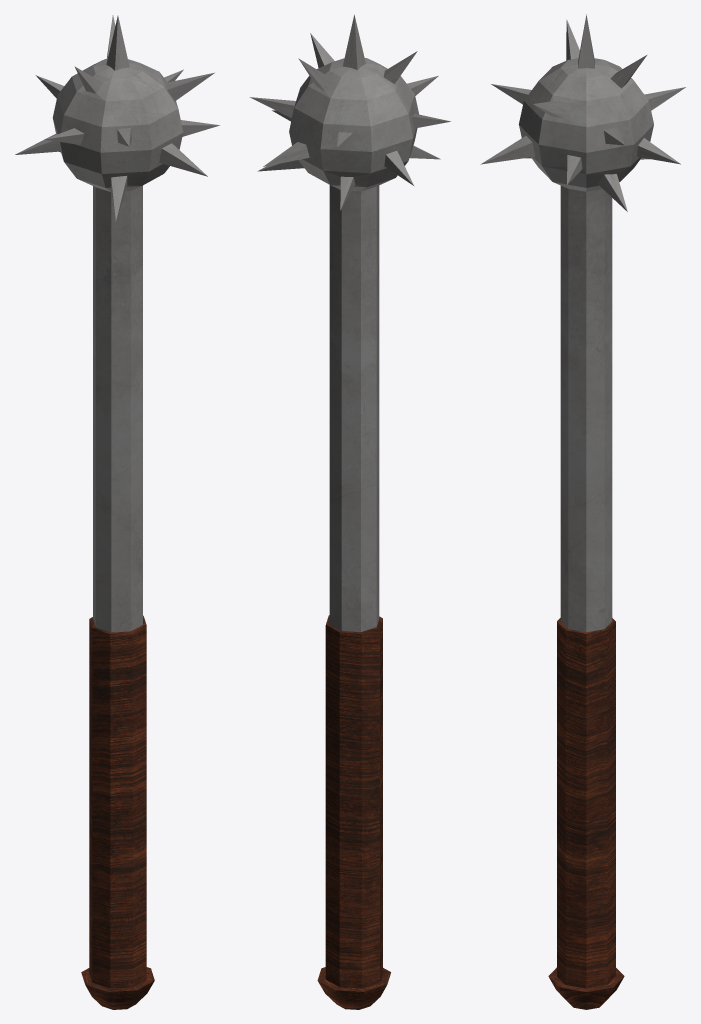
Rendered from SpikedBallV1.1.fbx.
3 renders of one model, left to right at view 1: azimuth 30°, elevation 25°; view 2: azimuth 150°, elevation 25°; view 3: azimuth 270°, elevation 25°, orthographic.
Parts seen in each view (by area): view 1: SpikedMace; view 2: SpikedMace; view 3: SpikedMace.
Boxes of the visible parts, <box> form: SpikedMace: <box>15,15,219,1009</box>; SpikedMace: <box>249,14,450,1009</box>; SpikedMace: <box>480,14,685,1009</box>.
Bounding box in the file's own units: 0.3997 × 2.13 × 0.4003.
